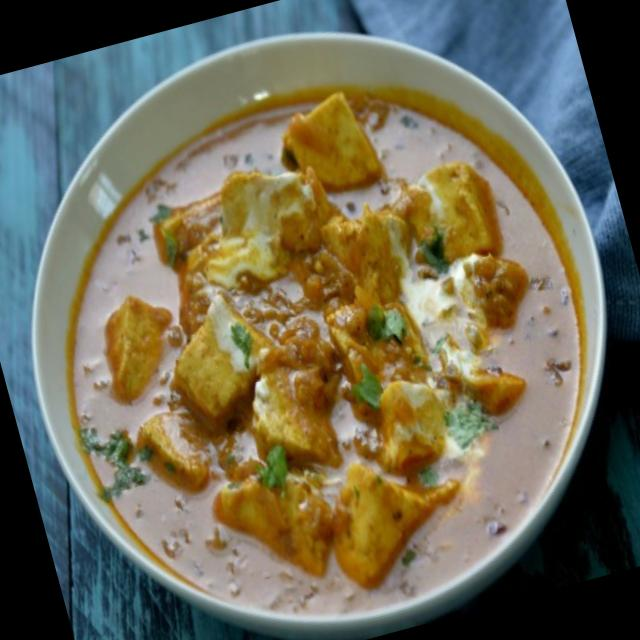ShahiPaneer: (7, 32, 640, 640)
